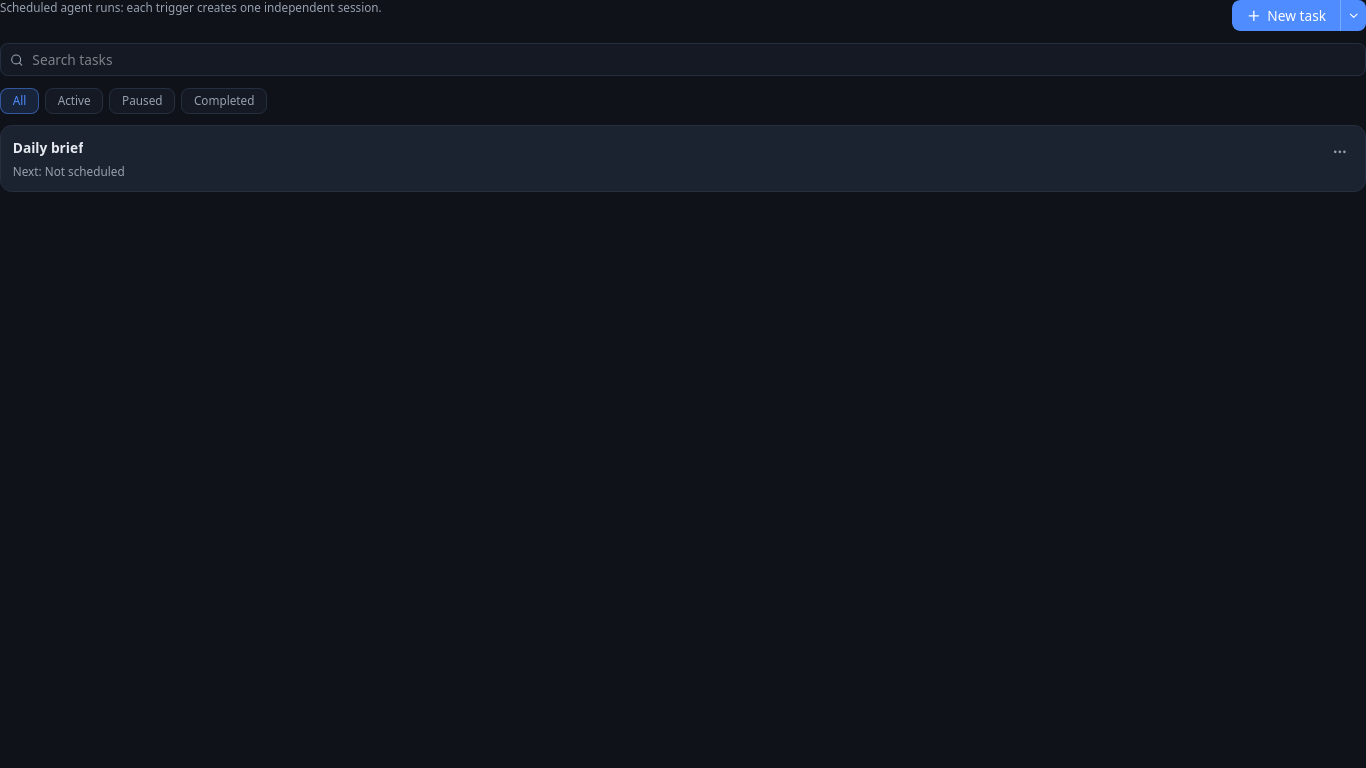
Test: AutomationsView › renders a cut-short run as a timeout badge with its bound
This screenshot has width=1366, height=768.
Click the text "Daily brief" at (48, 148), box [13,138,84,158]
(page scrolled)
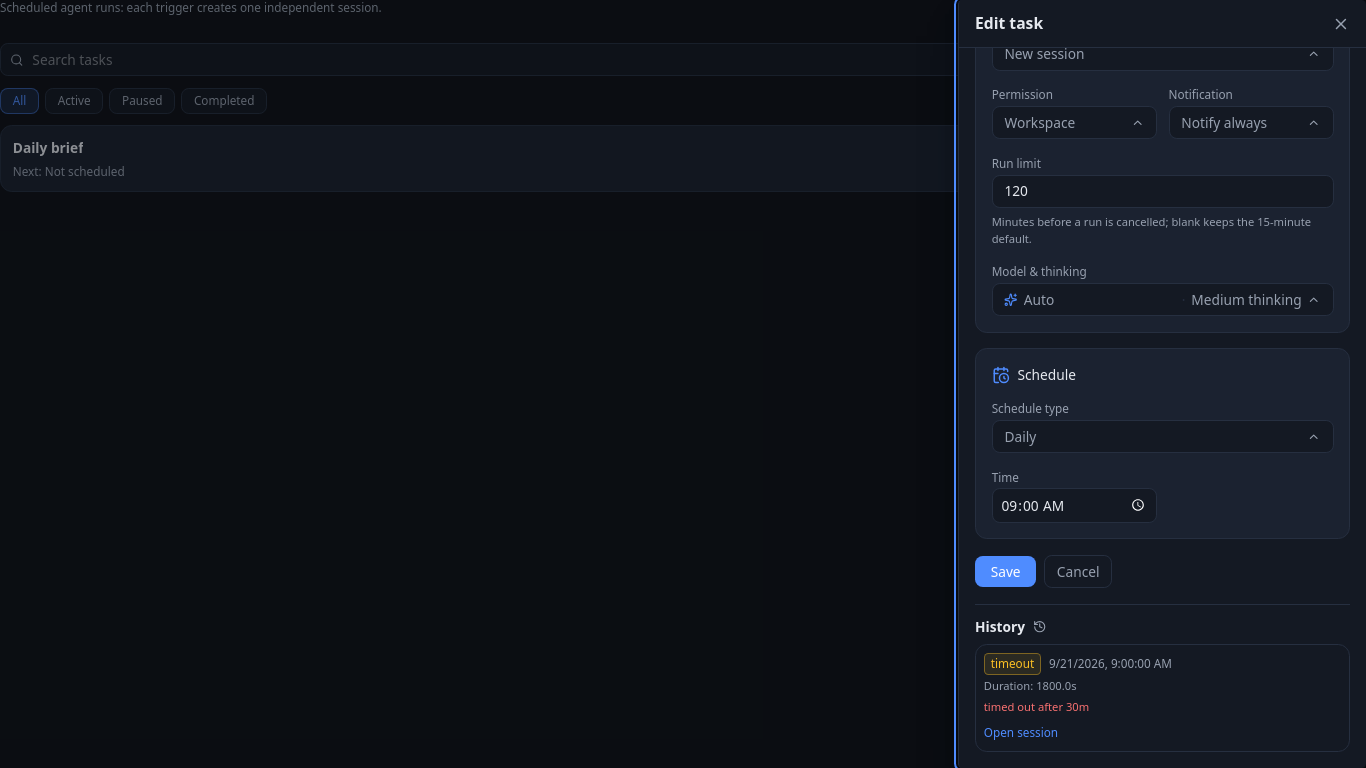
expect the text "timed out after 30m" is shown: met, box [984,699,1089,714]
expect the text "Duration: 1800.0s" is shown: met, box [984,678,1076,694]
